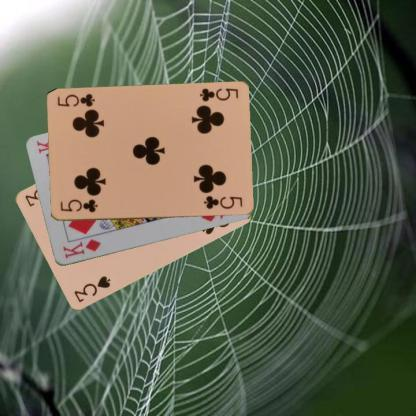3s: (71, 273, 112, 304)
5c: (197, 85, 240, 103), (58, 197, 99, 214)
Kd: (61, 236, 102, 260)
